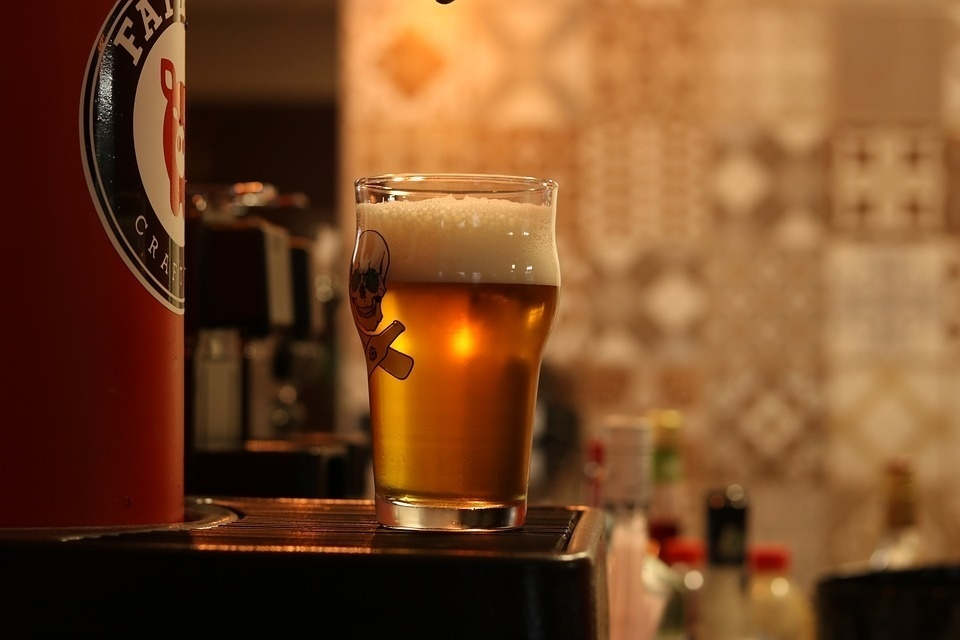whiskey: (329, 172, 564, 526)
